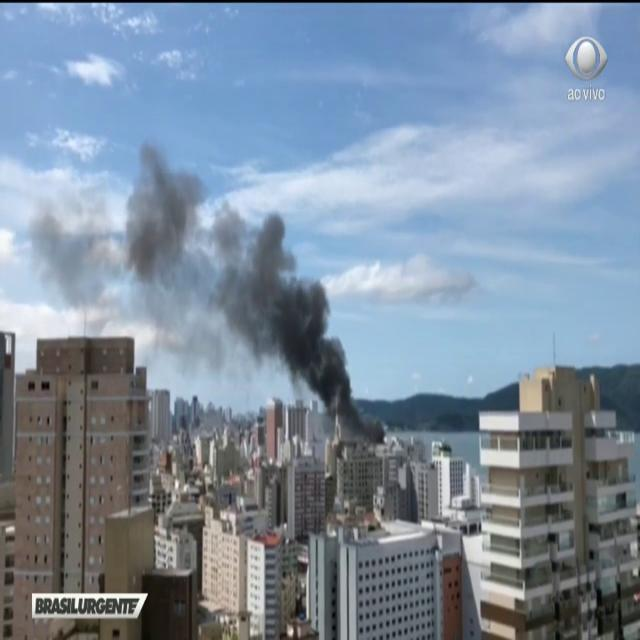Smoke: (17, 158, 290, 379), (271, 264, 400, 460)
